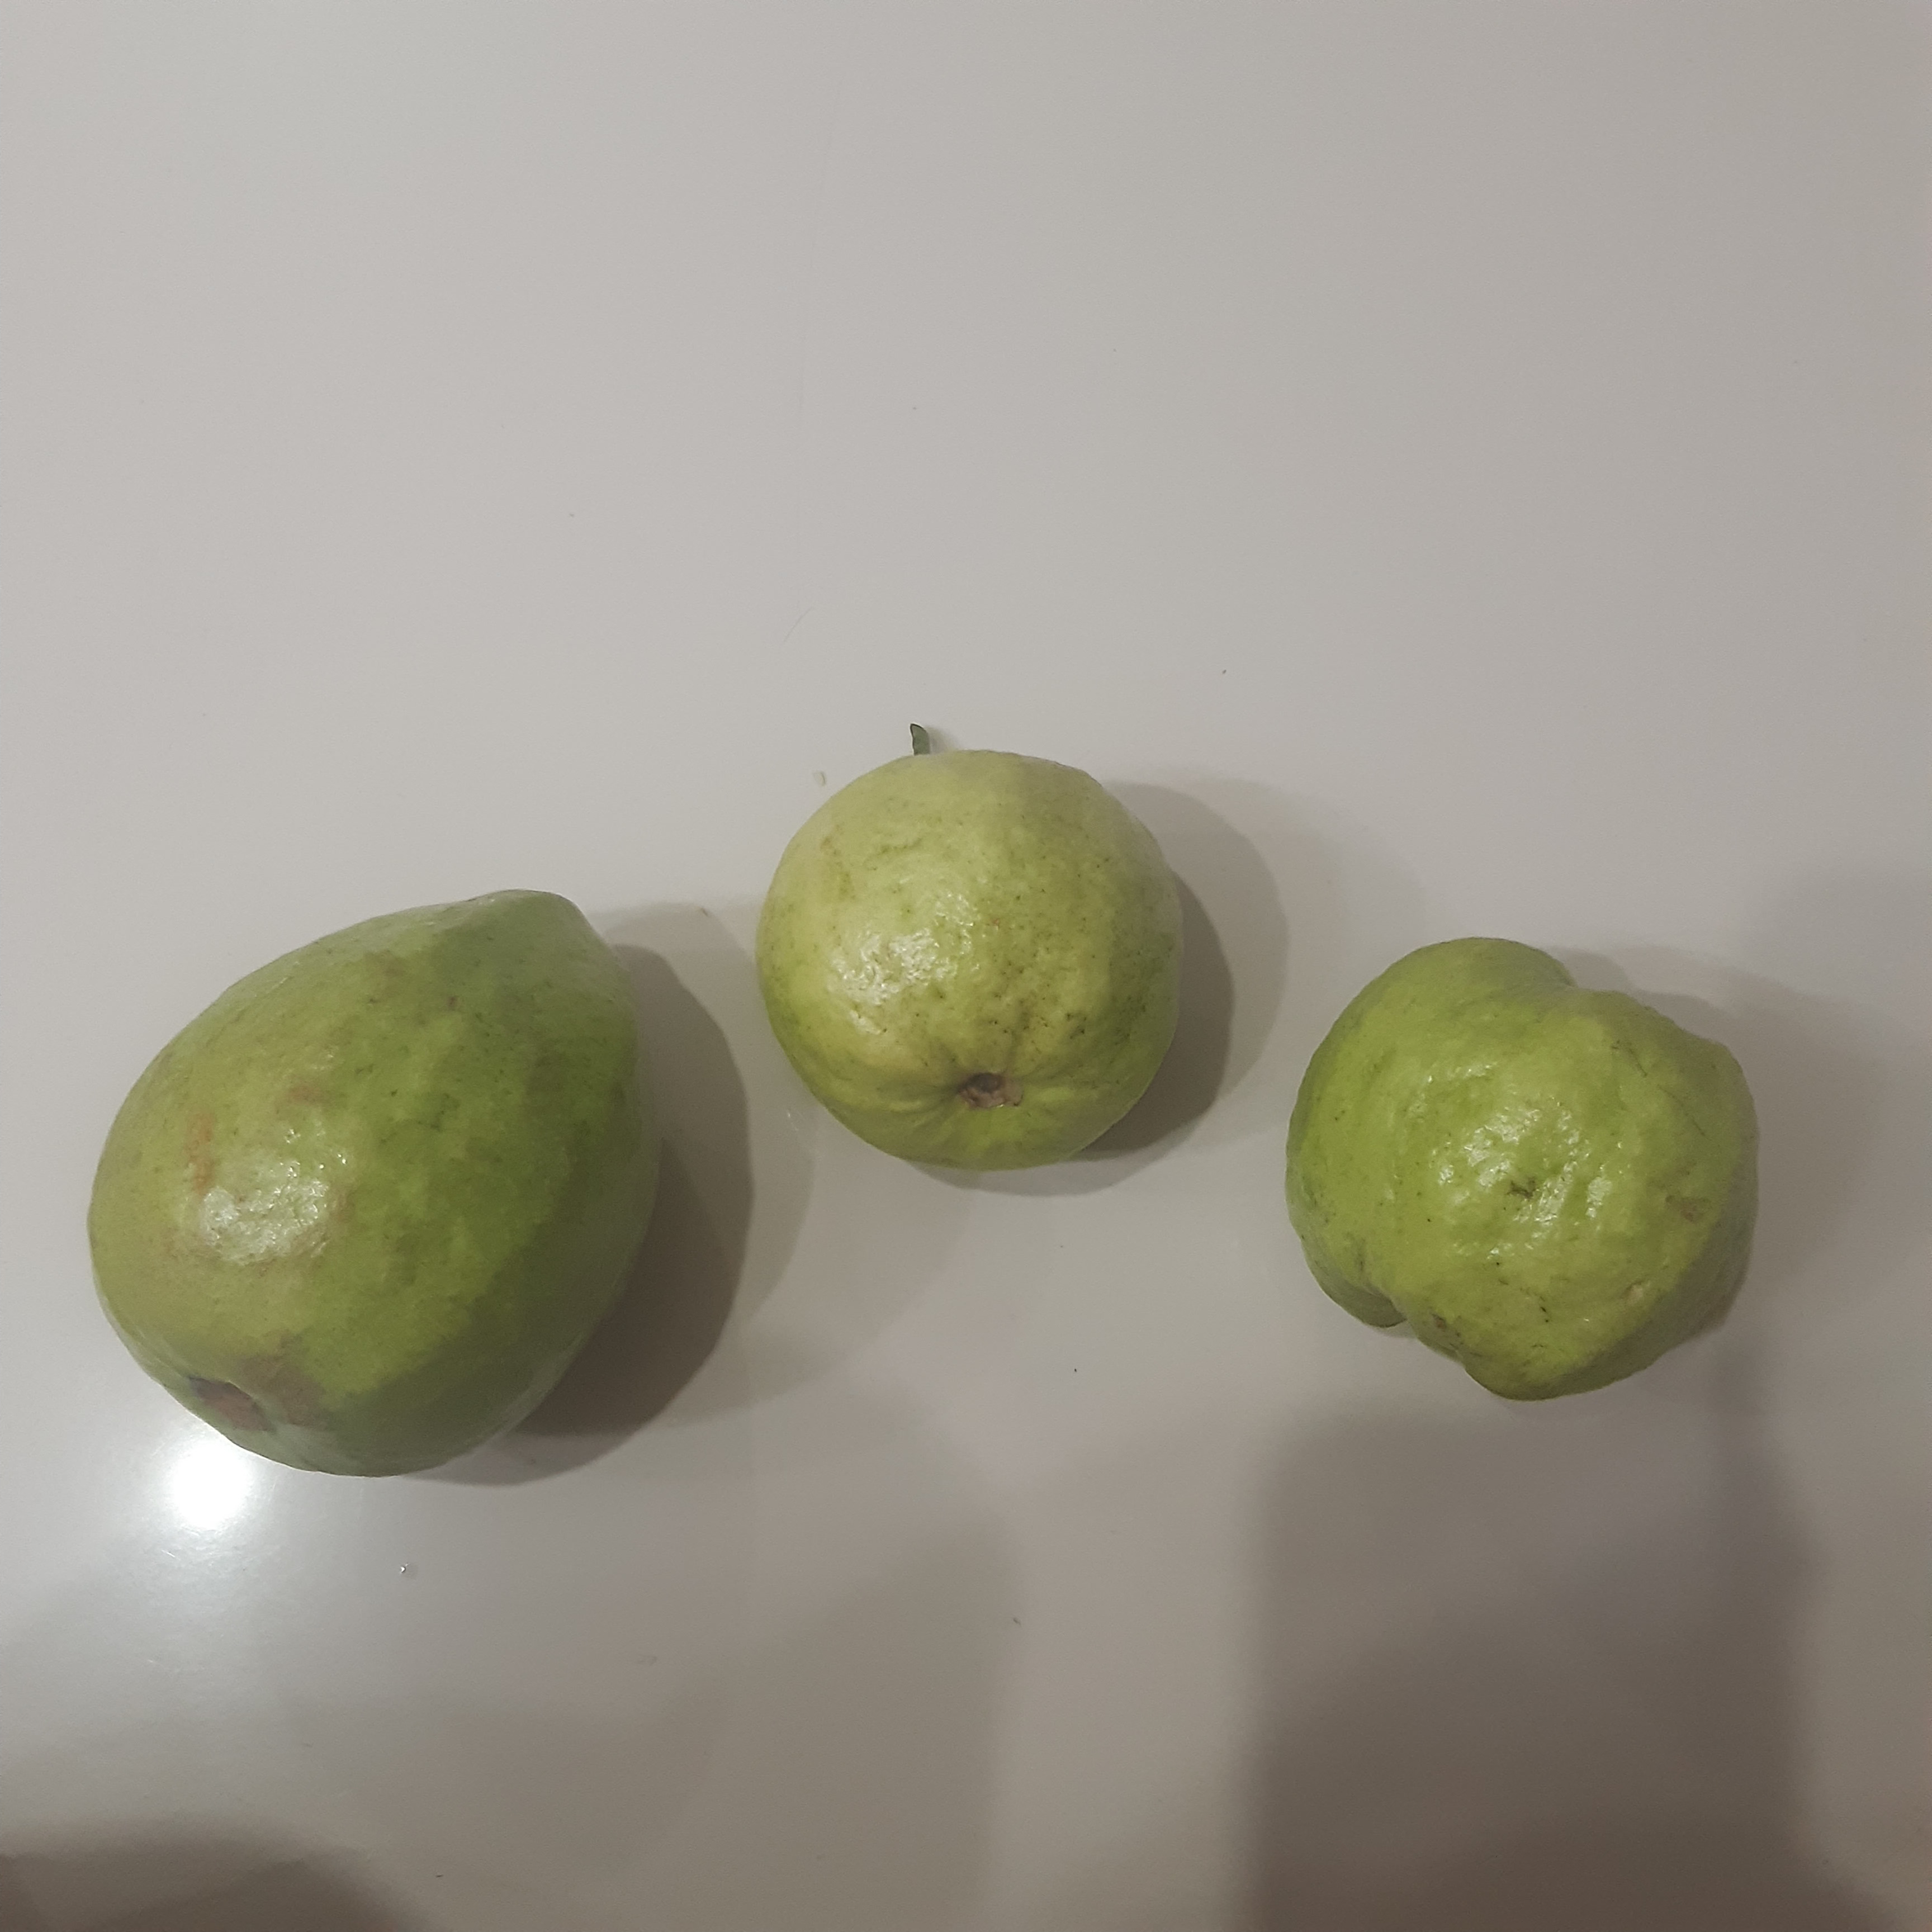Oi: (86, 890, 661, 1479), (1280, 939, 1759, 1399), (758, 751, 1184, 1175)
